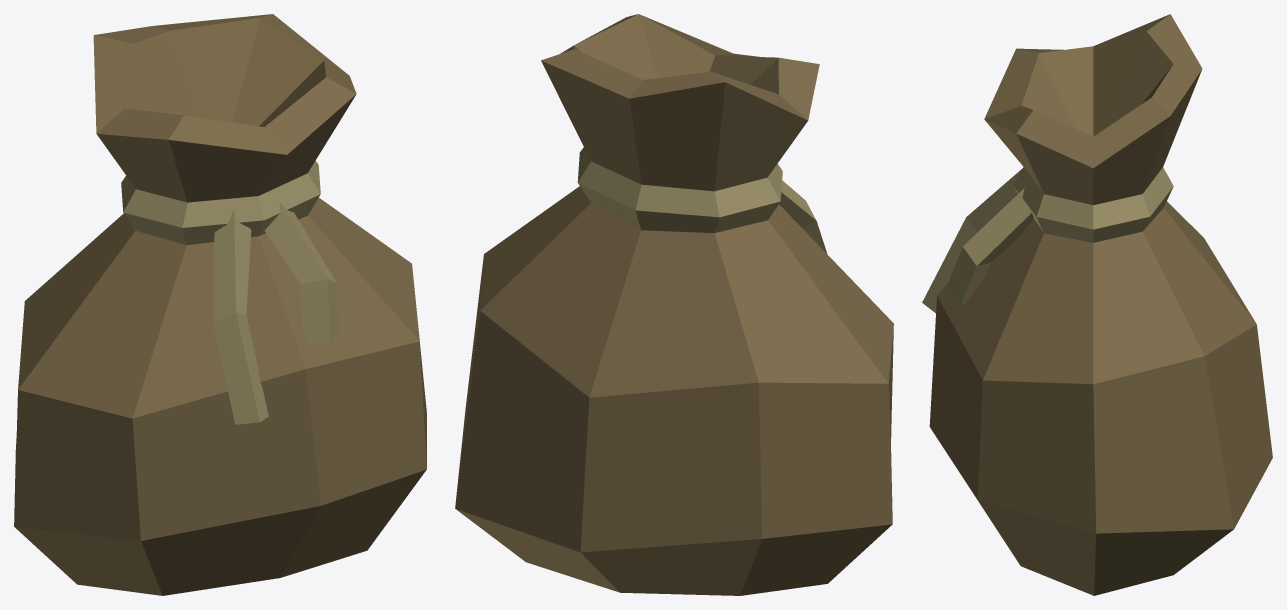
Rendered from Wallet.fbx.
The picture shows the model from 3 angles, left to right: view 1: azimuth 30°, elevation 25°; view 2: azimuth 150°, elevation 25°; view 3: azimuth 270°, elevation 25°; orthographic projection. The views are drawn at different scales.
Visible parts, largest first — view 1: Wallet; view 2: Wallet; view 3: Wallet.
Part boxes in pixels (x1,y1,x2,y2): Wallet: [14, 14, 426, 595]; Wallet: [455, 14, 893, 595]; Wallet: [922, 14, 1272, 595].
Size of the model in its own units: 14.94 by 18.02 by 11.86.
